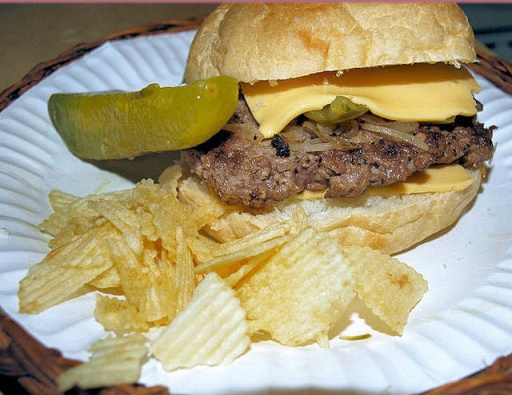background: (14, 1, 398, 243)
